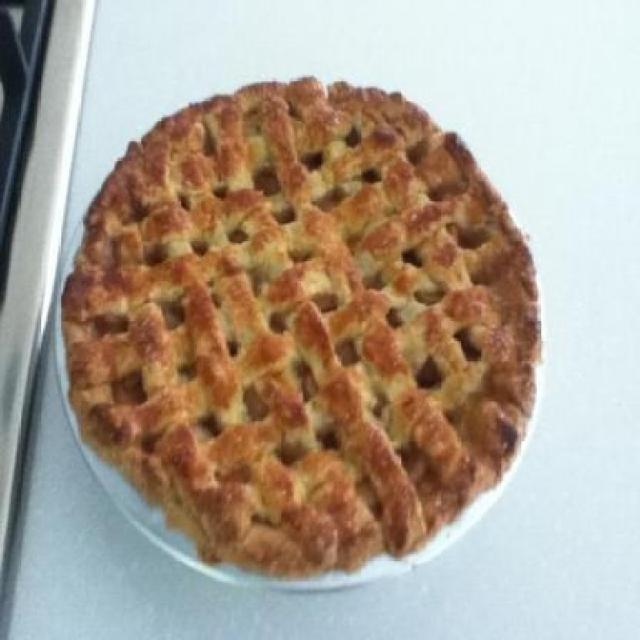Apple: (52, 76, 546, 552)
